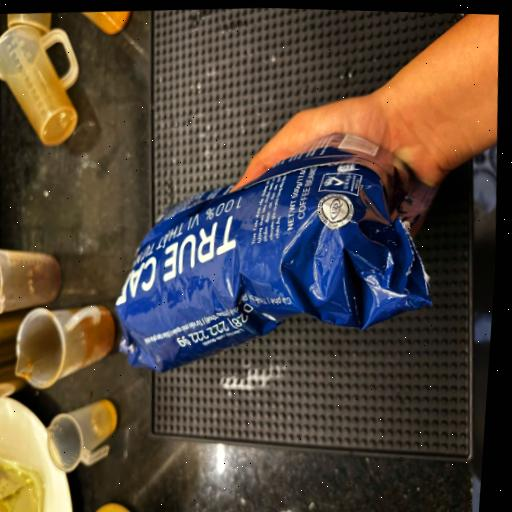cafe_hat: (116, 133, 434, 370)
